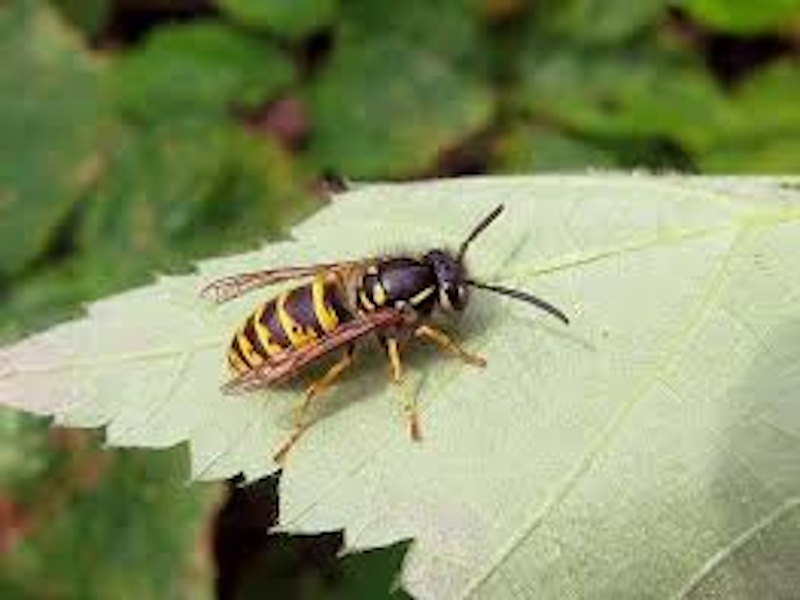chax: (186, 179, 562, 439)
